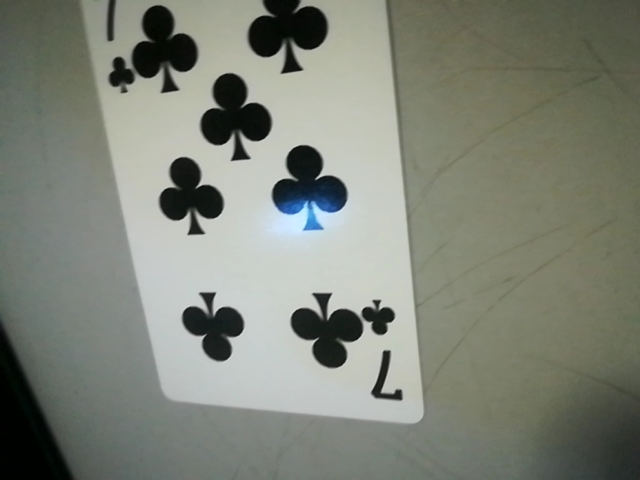mh 7: (356, 292, 417, 414)
